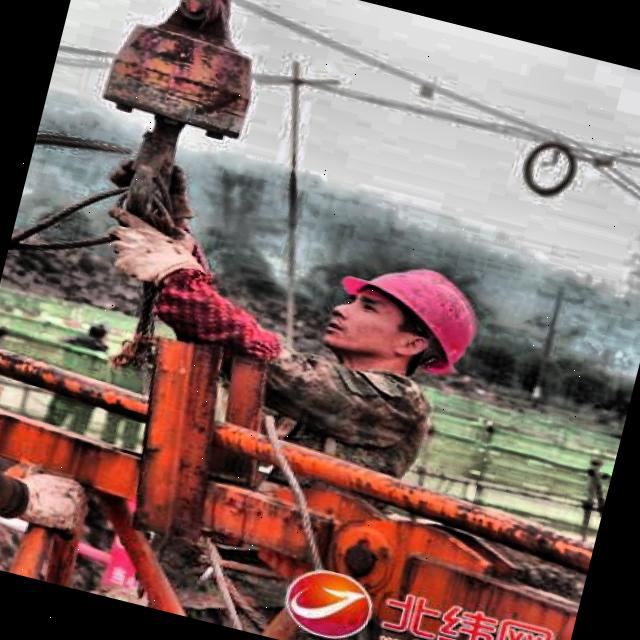helmet: (306, 234, 515, 411)
